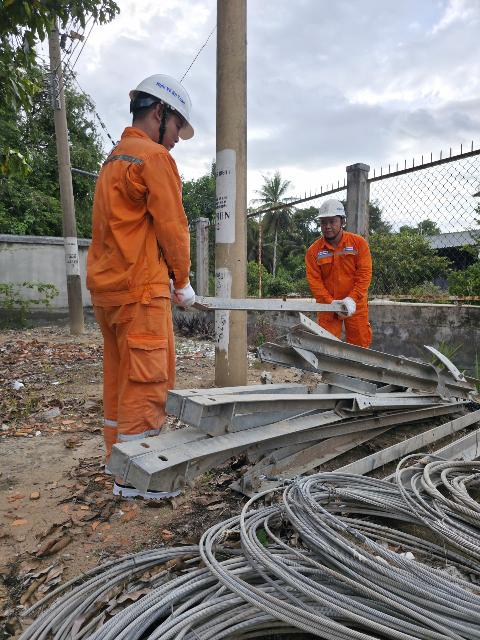gloves: (153, 278, 204, 318), (331, 298, 361, 322)
helmet: (136, 66, 212, 152), (306, 201, 353, 226)
shoes: (100, 468, 178, 508)
